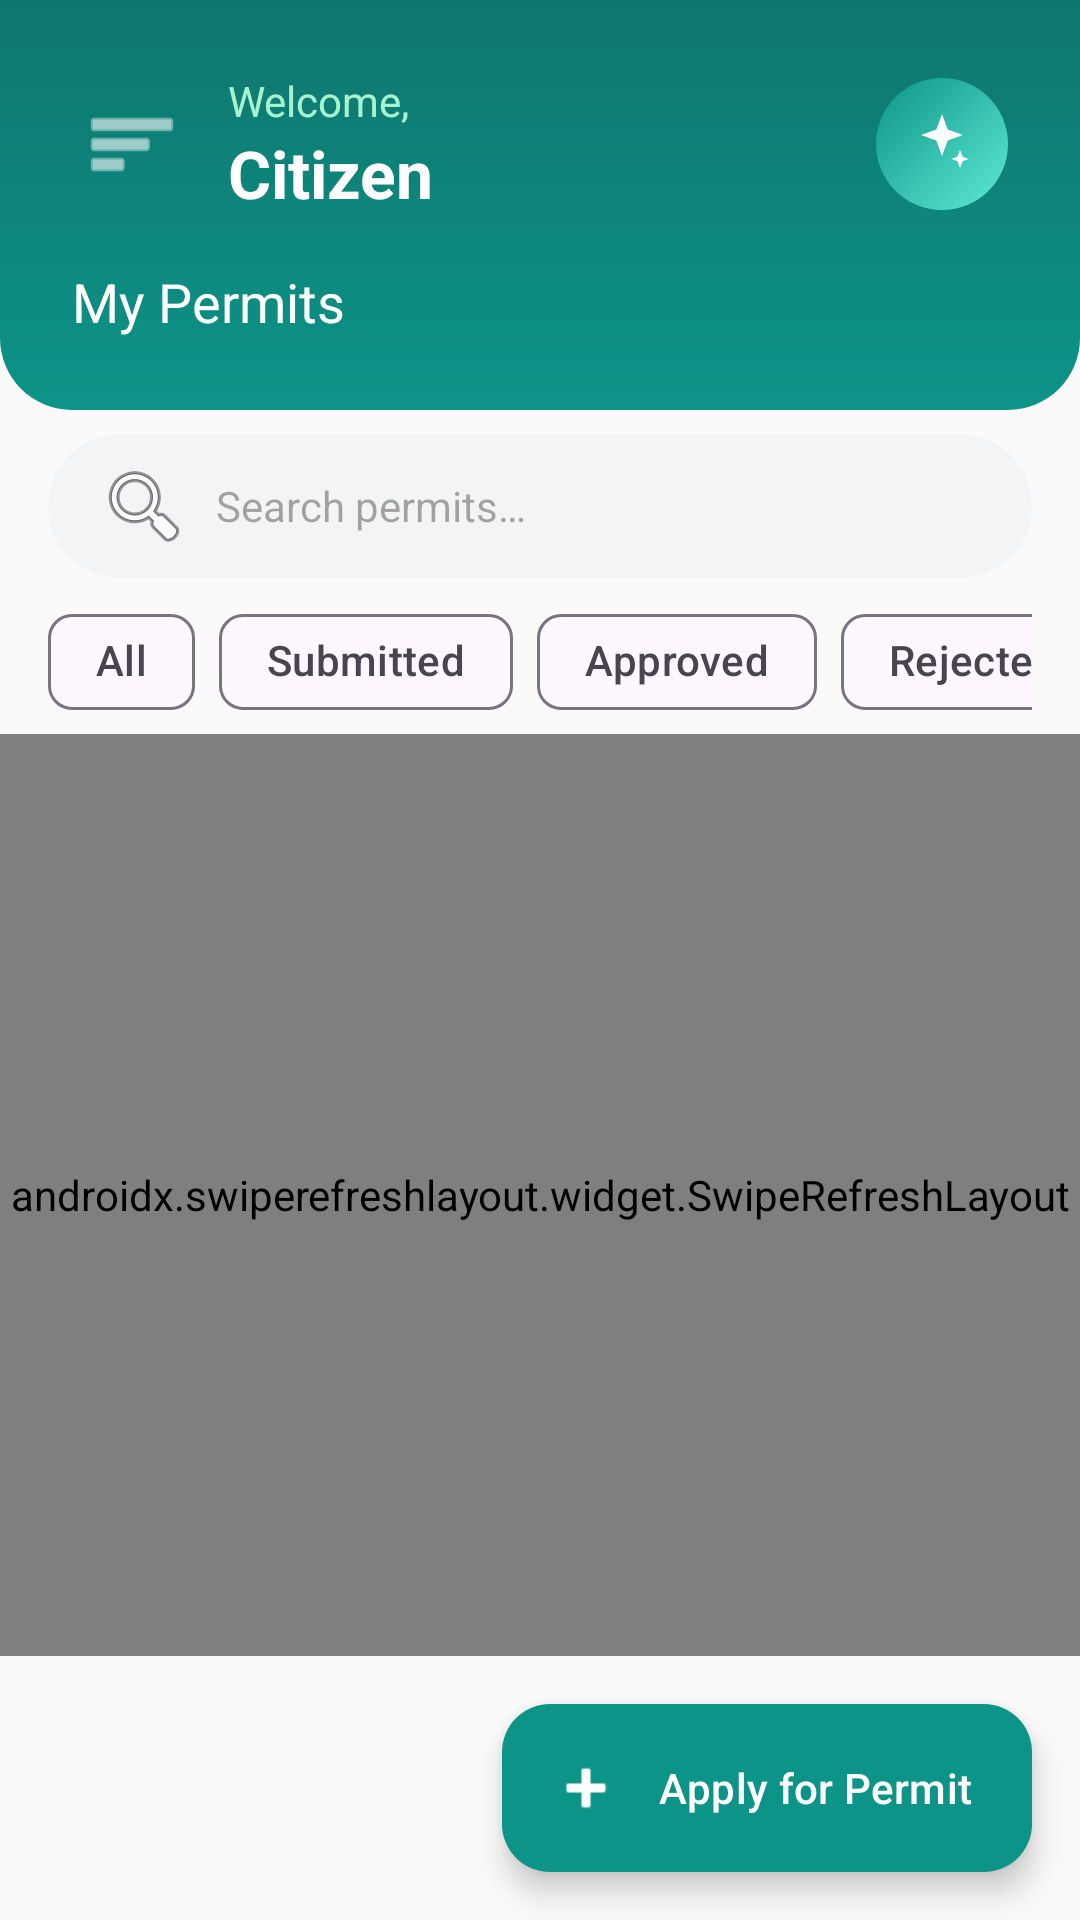

Screen size 1080w x 1920h. Icon name, then its box in pixels as [x1=x1, y1=y1, x2=x2, y2=y2]:
copilot spark: [x1=921, y1=114, x2=978, y2=180]
Menu: [x1=91, y1=118, x2=173, y2=171]
